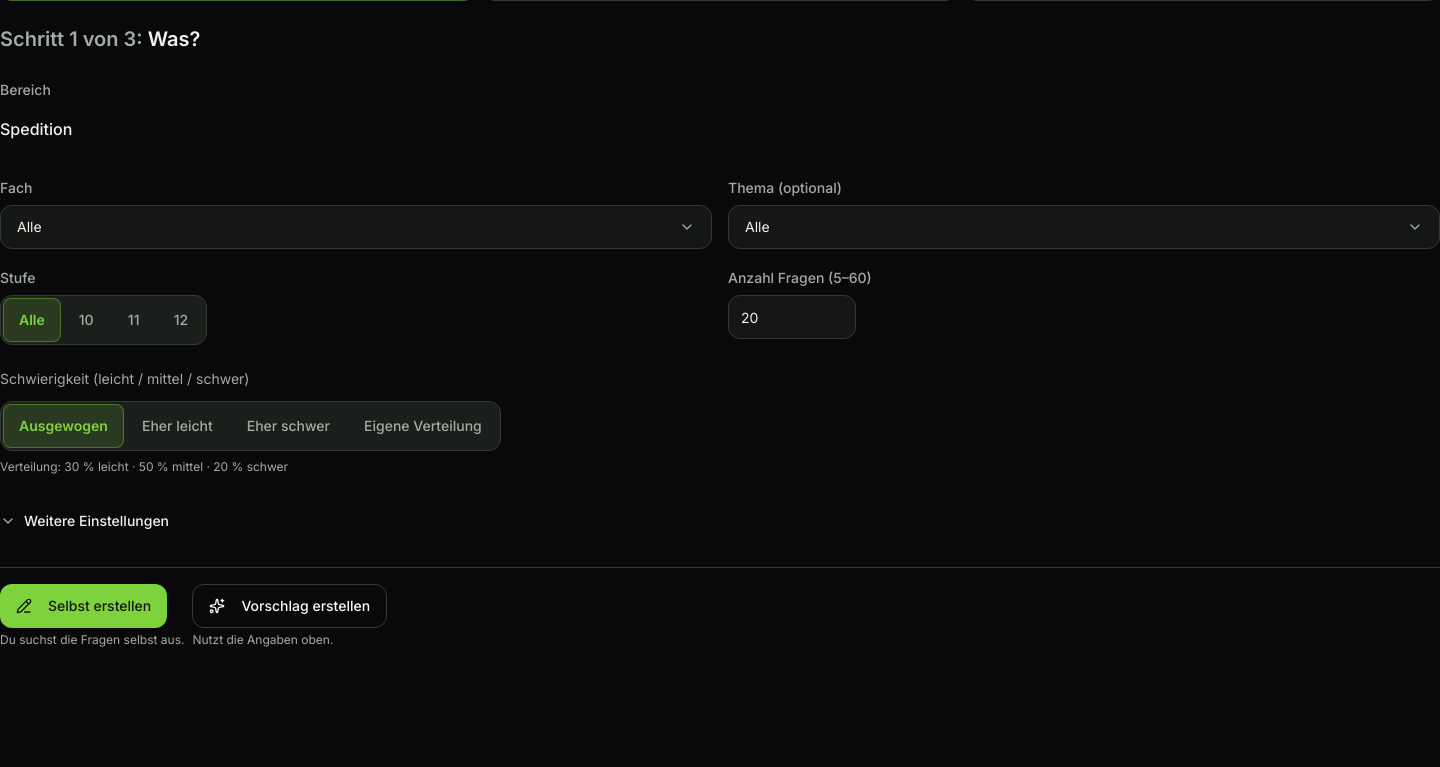
Test: Nachweis anlegen in drei Schritten (PROJ-133) › Zurück behält die Angaben
Click the button with aria-label "Fach: Alle" at (29, 226), box [0,205,712,249]
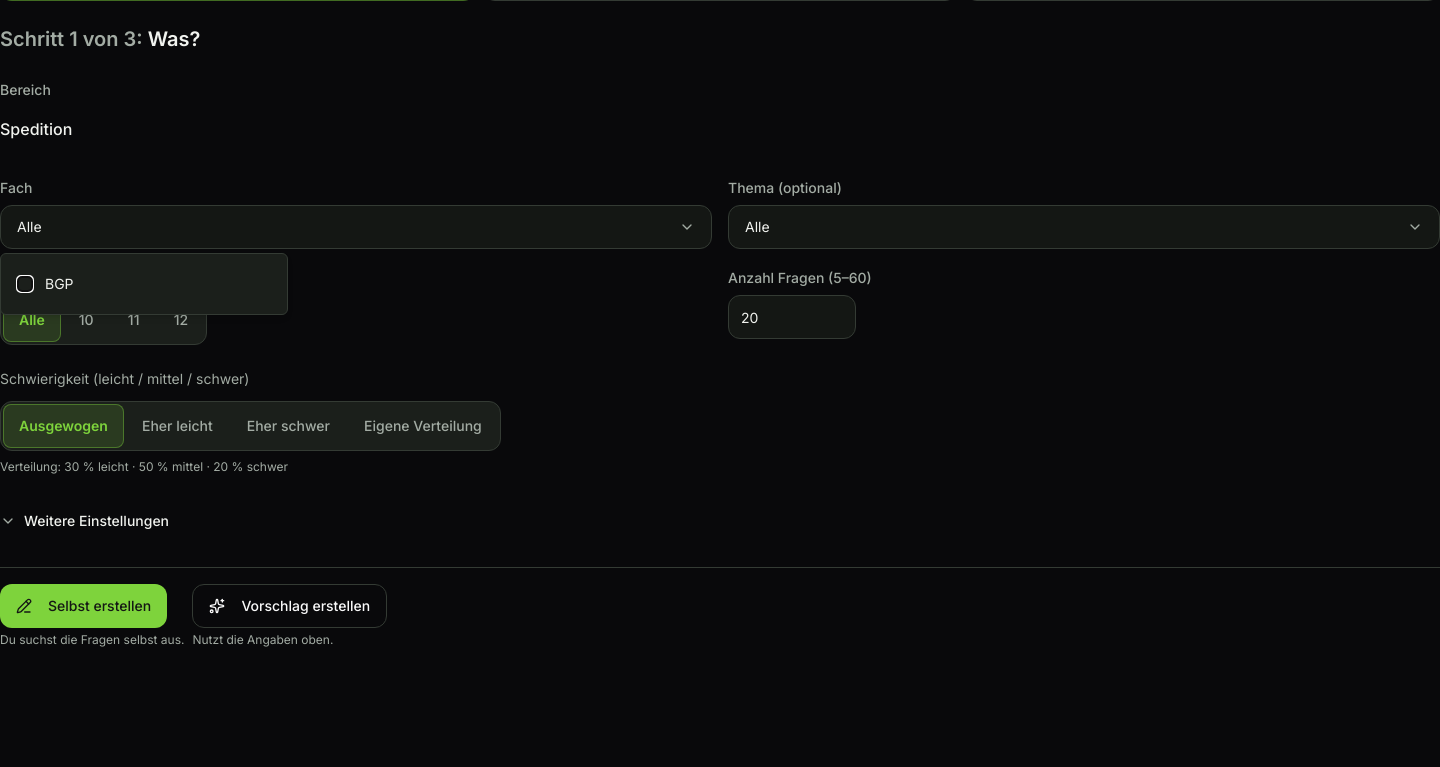
Click the checkbox named "BGP" at (25, 284), box [17,276,33,292]
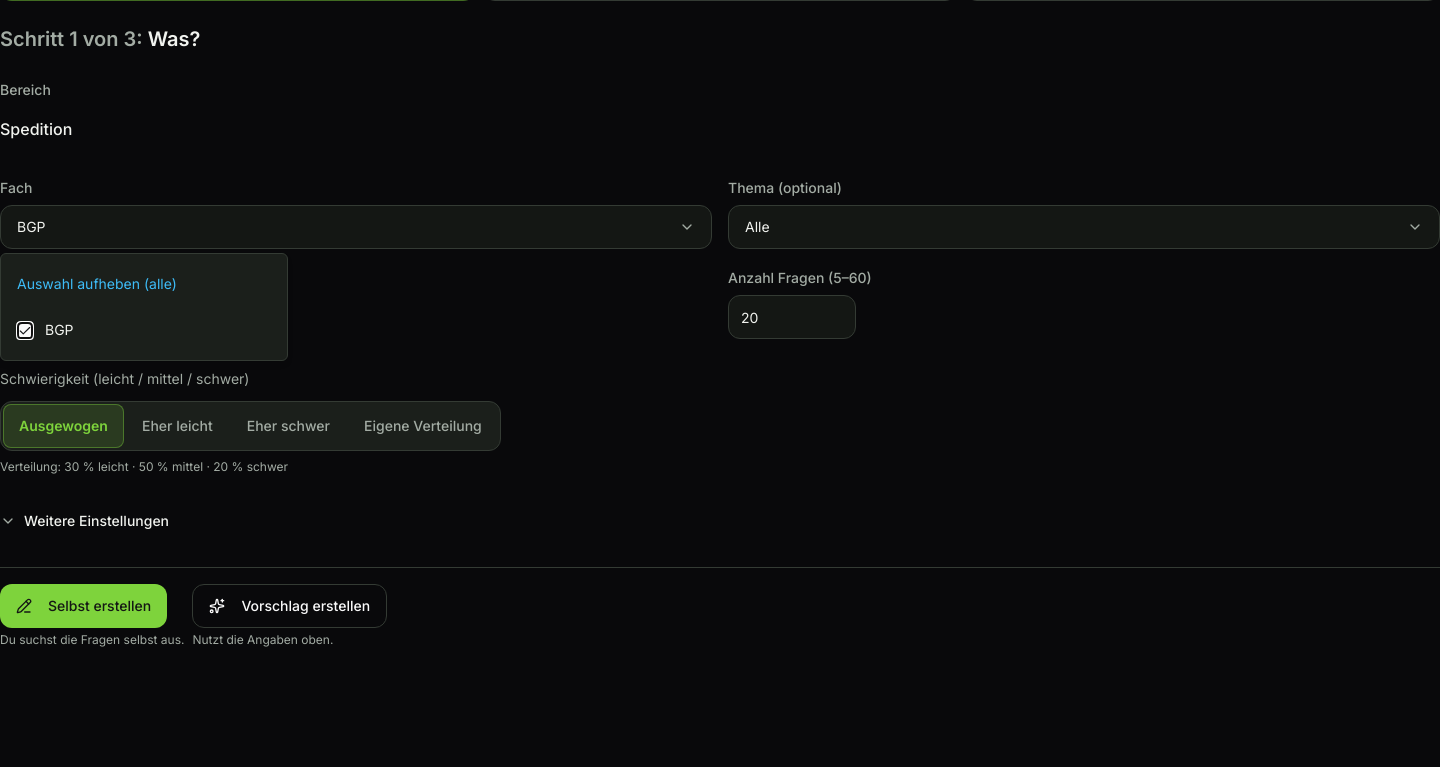
Press Escape in the checkbox named "BGP", box [17,322,33,338]
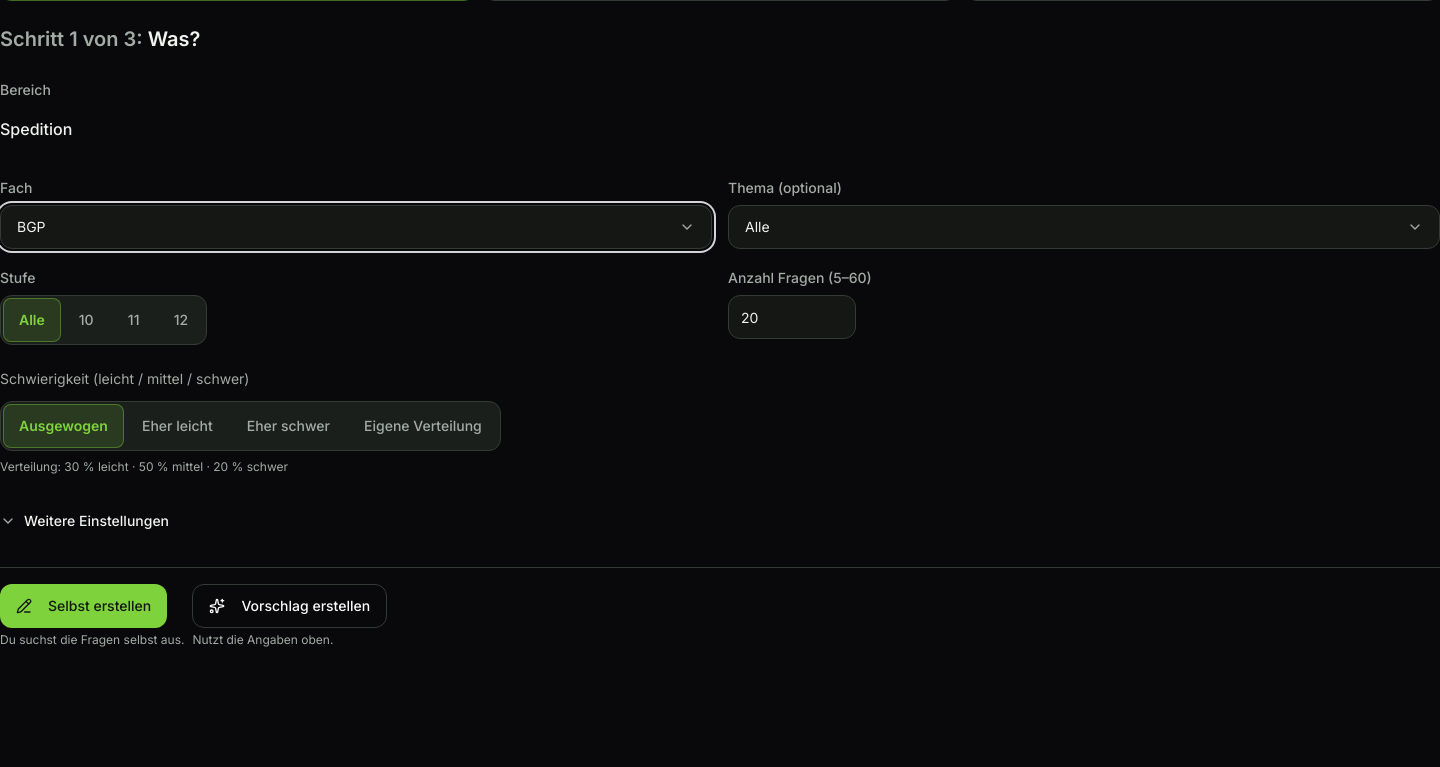
Click the button "Vorschlag erstellen" at (290, 606), box [192,584,387,628]
(page scrolled)
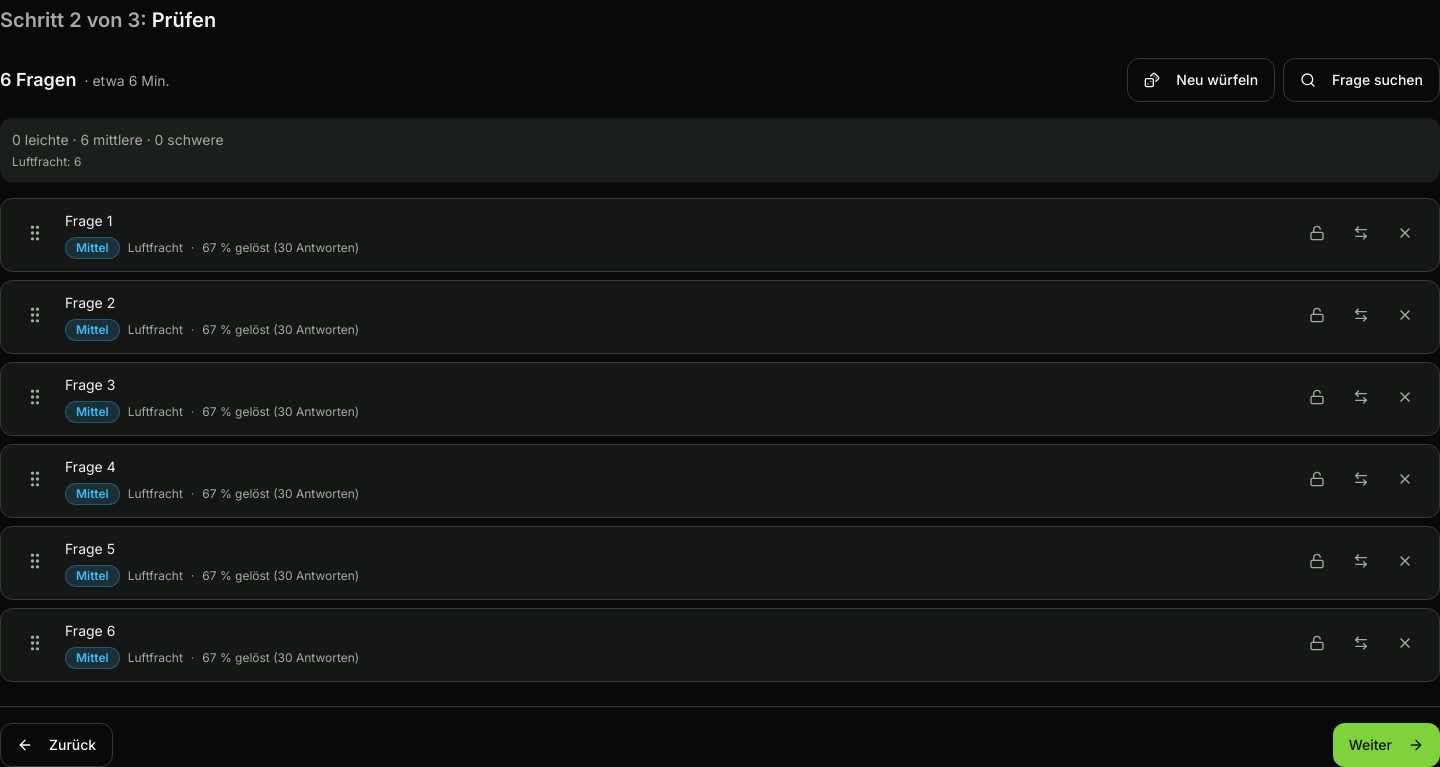
expect the text "6 Fragen· etwa 6 Min." is shown: met, box [0,66,170,94]
Click the button "Zurück" at (57, 745), box [0,723,113,766]
(page scrolled)
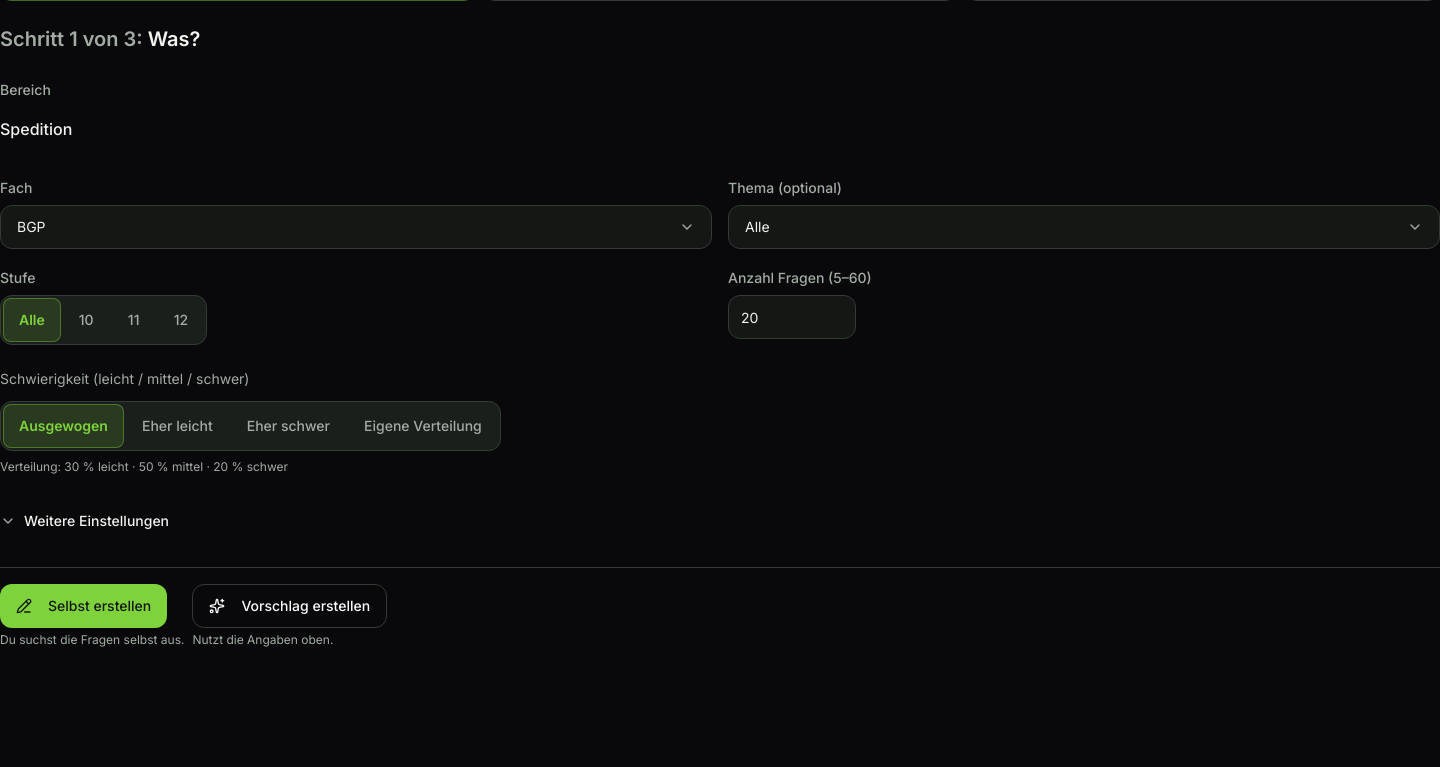
expect the field labelled "Anzahl Fragen (5–60)" holds "20": met, box [728,295,856,339]
expect the button with aria-label "Fach: BGP" is shown: met, box [0,205,712,249]
